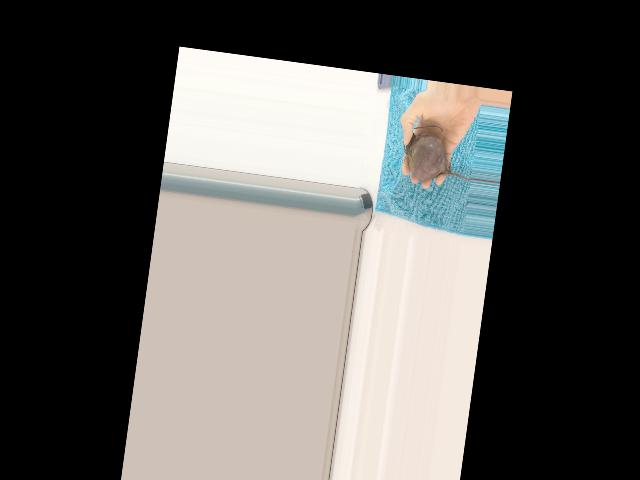beet: (398, 122, 478, 187)
